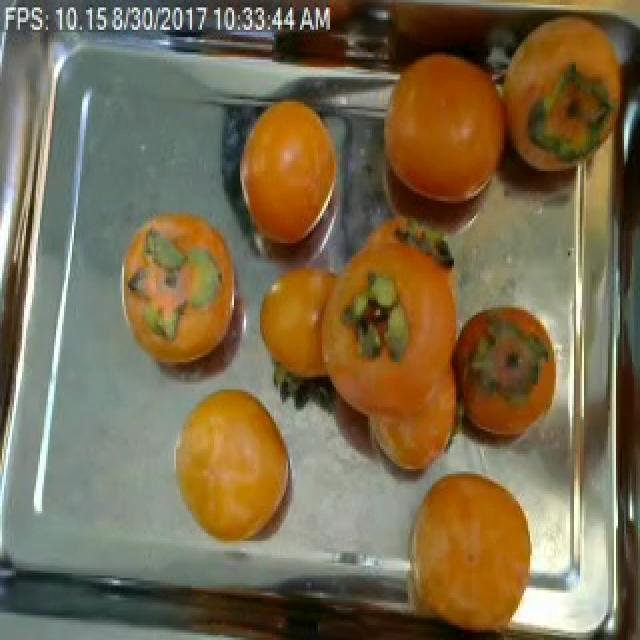Fruit: (366, 27, 526, 233), (388, 449, 550, 640), (158, 370, 308, 566), (110, 198, 240, 390), (222, 92, 346, 260), (452, 288, 558, 469)
